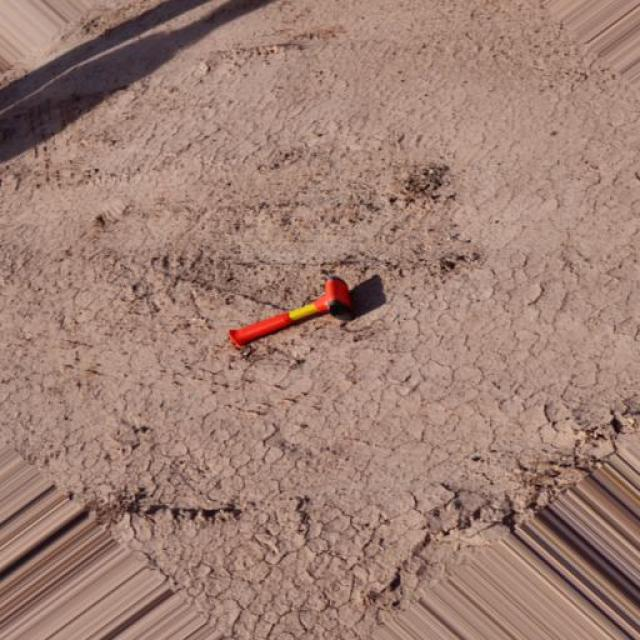mallet: (226, 275, 352, 349)
